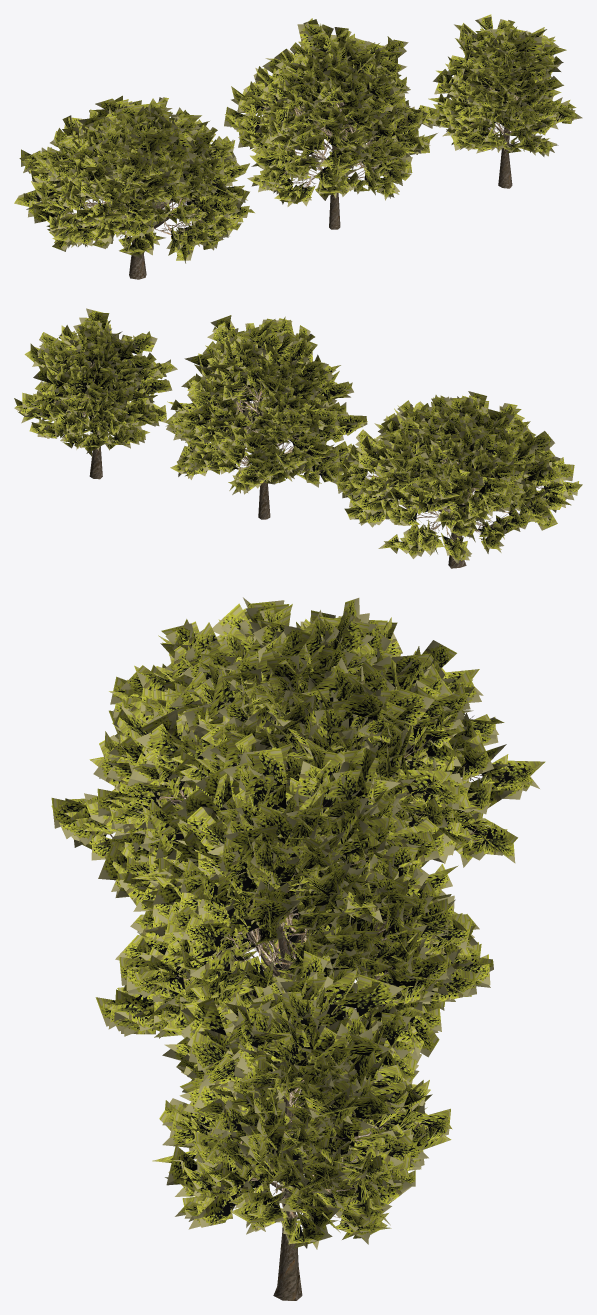
File: drive-tree.glb
The picture shows the model from 3 angles, top to bottom: view 1: azimuth 30°, elevation 25°; view 2: azimuth 150°, elevation 25°; view 3: azimuth 270°, elevation 25°; orthographic projection. The views are drawn at different scales.
Visible parts, largest first — view 1: Leaf_6, Bark_9; view 2: Leaf_6, Bark_9; view 3: Leaf_6, Bark_9.
Boxes of the visible parts, x1,y1,x2,y2 form: Leaf_6: (14, 14, 582, 263); Bark_9: (118, 75, 519, 279); Leaf_6: (14, 308, 582, 563); Bark_9: (83, 366, 530, 568); Leaf_6: (51, 597, 545, 1249); Bark_9: (167, 767, 309, 1300).
Bounding box in the file's own units: 216 × 75 × 87.65.
Materials: 3 (3 with a texture image).
